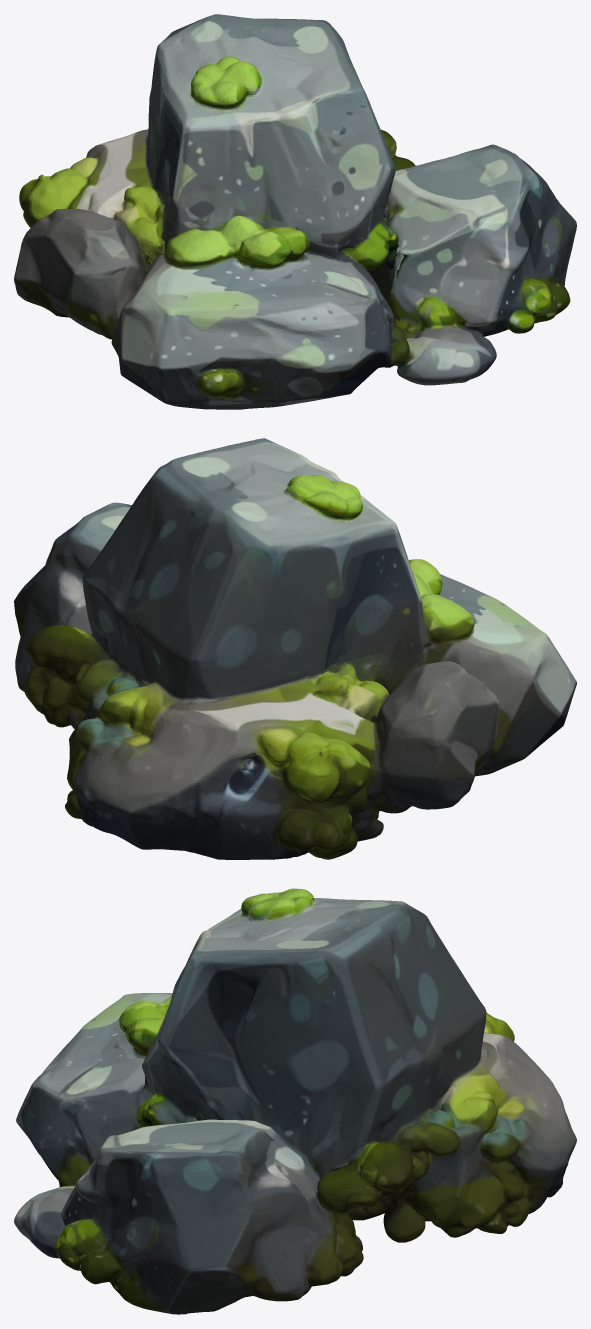
The model's file is rock_cluster_paint.glb.
The picture shows the model from 3 angles, top to bottom: view 1: azimuth 30°, elevation 25°; view 2: azimuth 150°, elevation 25°; view 3: azimuth 270°, elevation 25°; orthographic projection. The views are drawn at different scales.
Visible parts, largest first — view 1: temp_mesh.ply; view 2: temp_mesh.ply; view 3: temp_mesh.ply.
Boxes of the visible parts, <box> form: temp_mesh.ply: <box>14,14,576,409</box>; temp_mesh.ply: <box>14,438,576,859</box>; temp_mesh.ply: <box>14,888,576,1314</box>.
Size of the model in its own units: 1.96 by 1.07 by 1.83.
Materials: 1 (1 with a texture image).
